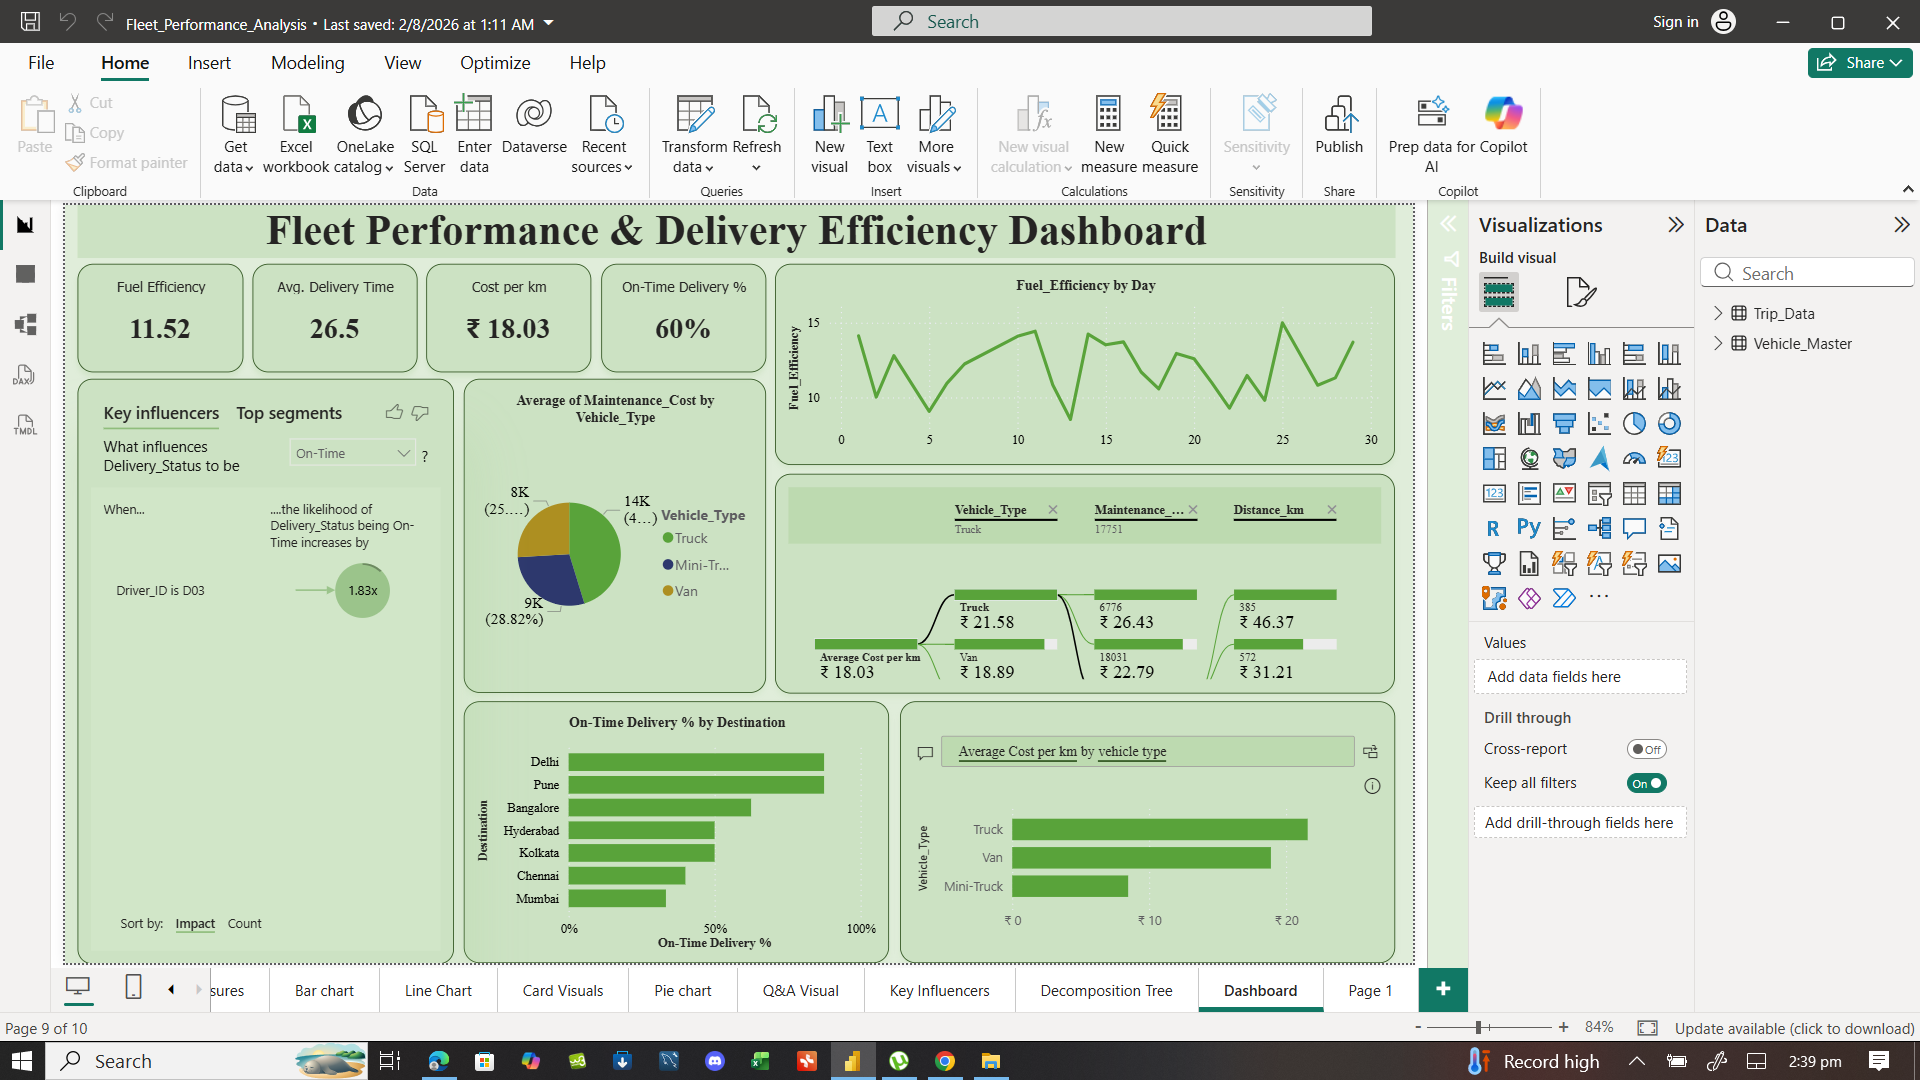

Layout of this report page (visuals, bound fields, positions):
{"tool":"powerbi","page":{"name":"Dashboard","canvas":[1280,720],"ordinal":8},"visuals":[{"type":"barChart","fields":{"Category":["Trip_Data.Destination"],"Y":["Trip_Data.On-Time Delivery %"]},"box":[379.3,471.7,404.1,248.9],"z":0},{"type":"lineChart","fields":{"Category":["Trip_Data.Delivery_Date.Variation.Date Hierarchy.Day"],"Y":["Trip_Data.Fuel Efficiency"]},"box":[674.4,55.7,589,190.8],"z":1000},{"type":"card","title":"Avg. Delivery Time","fields":{"Values":["Trip_Data.Avg. Delivery Time"]},"box":[177.8,55.7,156.4,103.1],"z":2000},{"type":"card","title":"Cost per km","fields":{"Values":["Trip_Data.Average Cost per km"]},"box":[343.7,55.7,156.4,103.1],"z":3000},{"type":"pieChart","fields":{"Category":["Vehicle_Master.Vehicle_Type"],"Y":["Avg(Vehicle_Master.Maintenance_Cost)"]},"box":[379.3,164.7,286.8,298.7],"z":4000},{"type":"textbox","title":"Fleet Performance & Delivery Efficiency Dashboard","box":[12,0,1252,50],"z":5000},{"type":"card","title":"Fuel Efficiency","fields":{"Values":["Trip_Data.Fuel Efficiency"]},"box":[11.9,55.7,157.6,103.1],"z":6000},{"type":"card","title":"On-Time Delivery %","fields":{"Values":["Trip_Data.On-Time Delivery %"]},"box":[509.6,55.7,156.4,103.1],"z":7000},{"type":"keyDriversVisual","fields":{"Target":["Trip_Data.Delivery_Status"],"ExplainBy":["Sum(Trip_Data.Distance_km)","Vehicle_Master.Vehicle_Type","Trip_Data.Driver_ID"]},"box":[11.9,164.7,357.9,555.9],"z":8000},{"type":"decompositionTreeVisual","fields":{"Analyze":["Trip_Data.Cost per km"],"ExplainBy":["Vehicle_Master.Vehicle_Type","Vehicle_Master.Maintenance_Cost","Trip_Data.Distance_km"]},"box":[674.4,254.8,589,208.6],"z":9000},{"type":"qnaVisual","title":"Q&A  Analysis","box":[792.9,471.7,470.5,248.9],"z":10000}]}

Visuals, with their boxes on the page's 1280x720 design canvas (x1, y1, x2, y2). These are canvas units, not pixel positions in the 1920x1080 screenshot, which may show the page scaled, cropped or inside an application window:
barChart - Trip_Data.Destination x Trip_Data.On-Time Delivery %: [x1=379, y1=472, x2=783, y2=721]
lineChart - Trip_Data.Delivery_Date.Variation.Date Hierarchy.Day x Trip_Data.Fuel Efficiency: [x1=674, y1=56, x2=1263, y2=246]
"Avg. Delivery Time" card: [x1=178, y1=56, x2=334, y2=159]
"Cost per km" card: [x1=344, y1=56, x2=500, y2=159]
pieChart - Vehicle_Master.Vehicle_Type x Avg(Vehicle_Master.Maintenance_Cost): [x1=379, y1=165, x2=666, y2=463]
"Fleet Performance & Delivery Efficiency Dashboard" textbox: [x1=12, y1=0, x2=1264, y2=50]
"Fuel Efficiency" card: [x1=12, y1=56, x2=170, y2=159]
"On-Time Delivery %" card: [x1=510, y1=56, x2=666, y2=159]
keyDriversVisual - Trip_Data.Delivery_Status x Sum(Trip_Data.Distance_km): [x1=12, y1=165, x2=370, y2=721]
decompositionTreeVisual - Trip_Data.Cost per km x Vehicle_Master.Vehicle_Type: [x1=674, y1=255, x2=1263, y2=463]
"Q&A  Analysis" qnaVisual: [x1=793, y1=472, x2=1263, y2=721]
